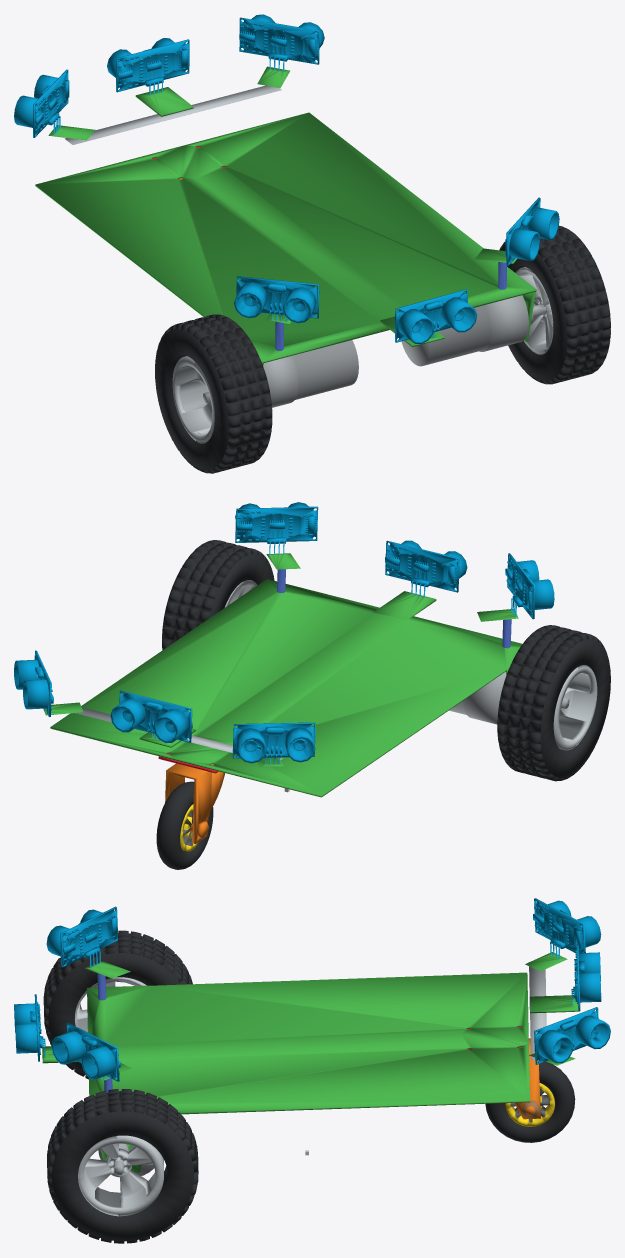
Rendered from robot.obj.
The picture shows the model from 3 angles, top to bottom: view 1: azimuth 30°, elevation 25°; view 2: azimuth 150°, elevation 25°; view 3: azimuth 270°, elevation 25°; orthographic projection.
Visible parts, largest first — view 1: obj_0; view 2: obj_0; view 3: obj_0.
Part boxes in pixels (x1,y1,x2,y2): obj_0: (14,14,610,473); obj_0: (14,502,610,869); obj_0: (14,898,610,1243).
Size of the model in its own units: 239 by 120 by 325.
